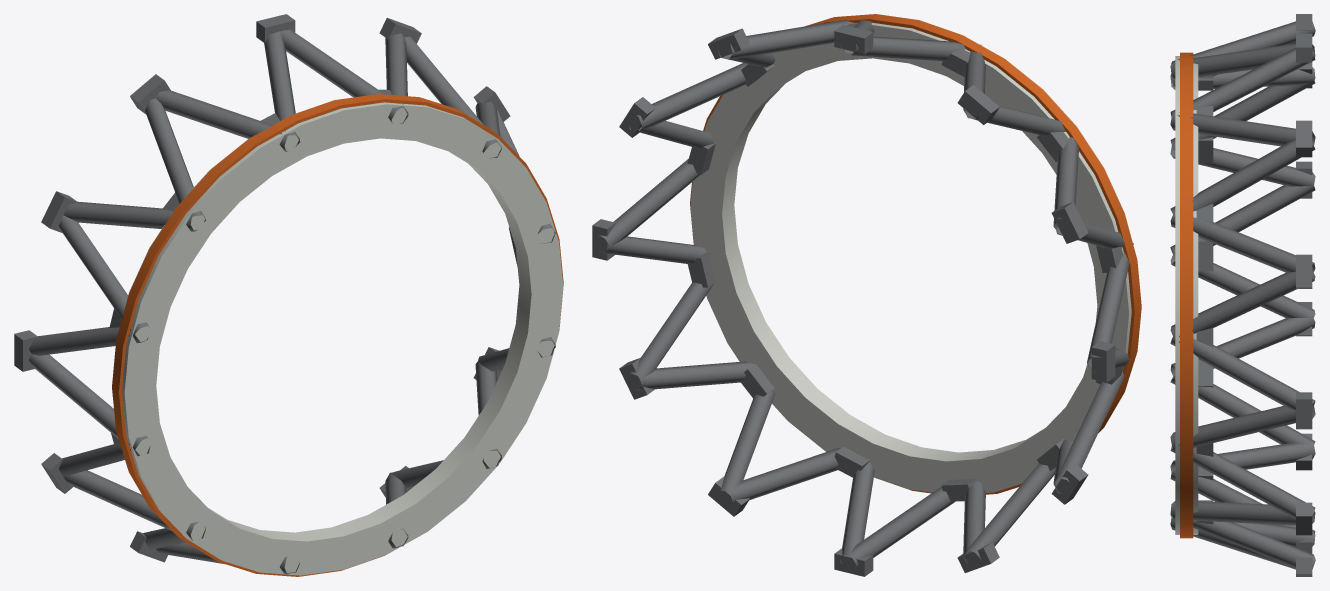
File: u70_interstage.obj
3 views of the same model, side by side, from view 1: azimuth 30°, elevation 25°; view 2: azimuth 150°, elevation 25°; view 3: azimuth 270°, elevation 25° (orthographic). The views are drawn at different scales.
Parts seen in each view (by area): view 1: u70_interstage; view 2: u70_interstage; view 3: u70_interstage.
Boxes of the visible parts, <box> form: u70_interstage: <box>14,14,563,576</box>; u70_interstage: <box>592,14,1141,576</box>; u70_interstage: <box>1170,14,1315,576</box>.
Bounding box in the file's own units: 3.4 × 3.4 × 0.8783.
